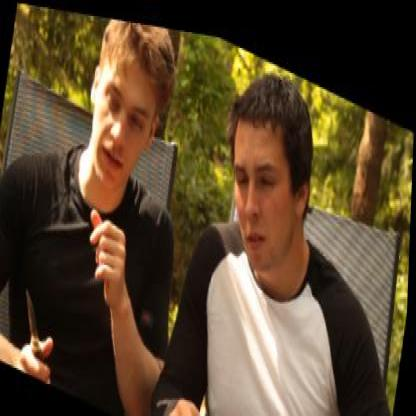knife: (15, 279, 66, 384)
